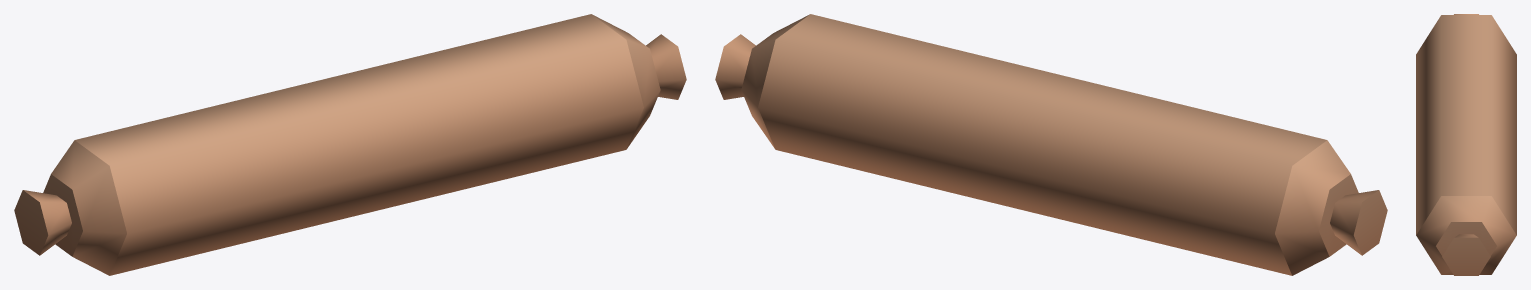
The model's file is hot-dog-raw.glb.
3 renders of one model, left to right at view 1: azimuth 30°, elevation 25°; view 2: azimuth 150°, elevation 25°; view 3: azimuth 270°, elevation 25°, orthographic. The views are drawn at different scales.
Parts seen in each view (by area): view 1: hot-dog-raw; view 2: hot-dog-raw; view 3: hot-dog-raw.
Part boxes in pixels (x1,y1,x2,y2): hot-dog-raw: (14,14,686,275); hot-dog-raw: (715,14,1387,275); hot-dog-raw: (1416,14,1516,275).
Size of the model in its own units: 0.5859 by 0.0966 by 0.1116.
